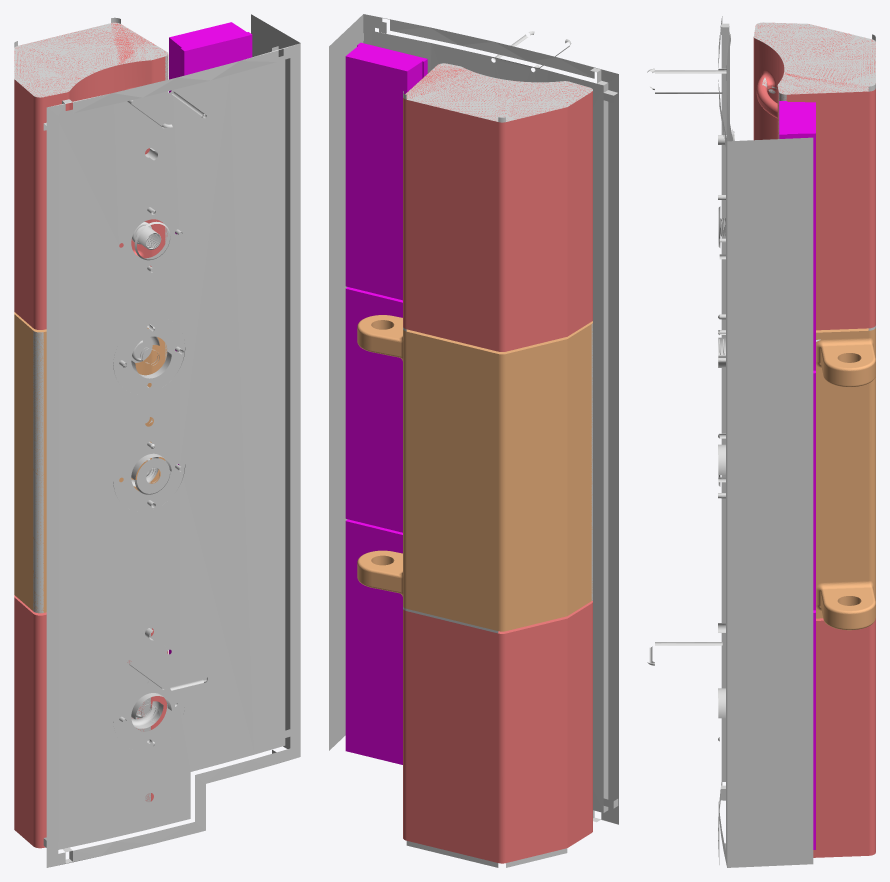
Rendered from SAGMill_ShellLiner_SinterCast_Clean.glb.
3 renders of one model, left to right at view 1: azimuth 30°, elevation 25°; view 2: azimuth 150°, elevation 25°; view 3: azimuth 270°, elevation 25°, orthographic. The views are drawn at different scales.
Visible parts, largest first — view 1: Node1, Node2, Node7, Node10, Node8; view 2: Node7, Node2, Node1, Node8, Node10; view 3: Node1, Node2, Node7, Node8, Node10.
Part boxes in pixels (bbox=[...]): Node1: bbox=[14, 14, 300, 867]; Node2: bbox=[14, 56, 168, 848]; Node7: bbox=[14, 312, 167, 612]; Node10: bbox=[14, 22, 167, 801]; Node8: bbox=[169, 22, 252, 654]; Node7: bbox=[357, 315, 592, 631]; Node2: bbox=[403, 92, 592, 863]; Node1: bbox=[329, 14, 618, 867]; Node8: bbox=[345, 42, 427, 764]; Node10: bbox=[406, 64, 592, 862]; Node1: bbox=[647, 16, 875, 867]; Node2: bbox=[753, 37, 875, 857]; Node7: bbox=[816, 328, 875, 630]; Node8: bbox=[779, 101, 815, 849]; Node10: bbox=[754, 23, 875, 94].
Bounding box in the file's own units: 0.5733 × 1.62 × 0.435.
